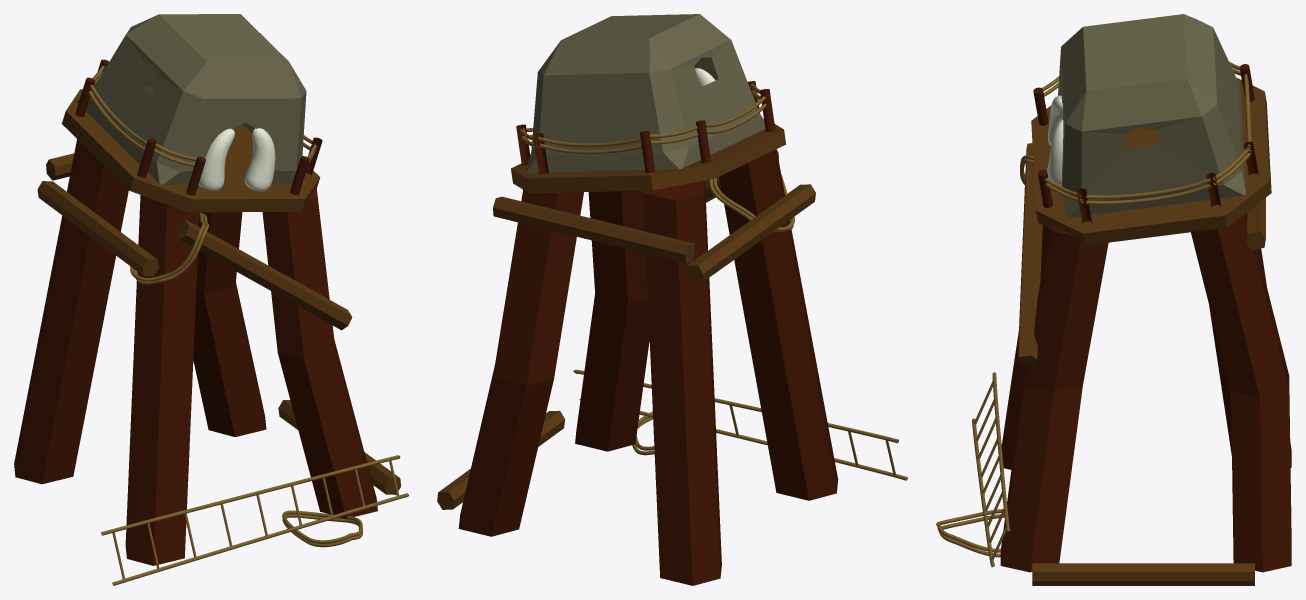
The model's file is _WoodTowerBroken.fbx.
3 renders of one model, left to right at view 1: azimuth 30°, elevation 25°; view 2: azimuth 150°, elevation 25°; view 3: azimuth 270°, elevation 25°, orthographic. The views are drawn at different scales.
Visible parts, largest first — view 1: ladder; view 2: ladder; view 3: ladder.
Boxes of the visible parts, <box> form: ladder: <box>14,14,408,585</box>; ladder: <box>437,14,907,585</box>; ladder: <box>936,14,1291,585</box>.
Size of the model in its own units: 986 by 1402 by 917.
